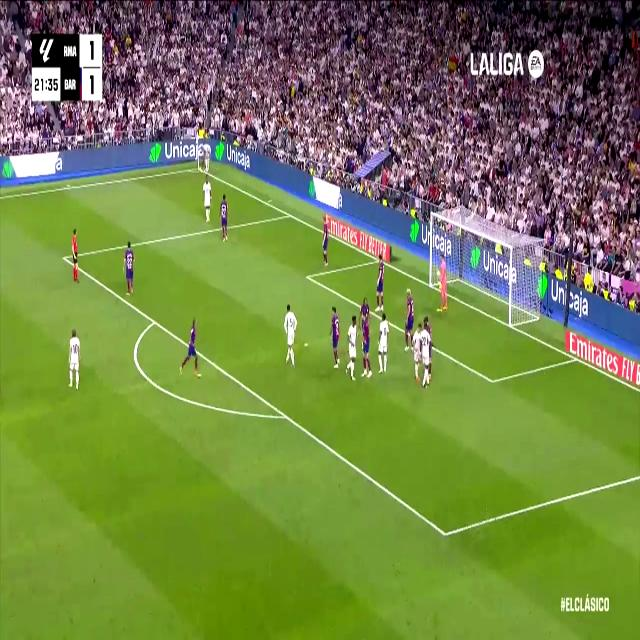bigarea_bottom_inner: (438, 516, 452, 550)
bigarea_top_inner: (61, 249, 68, 266)
bigarea_top_outter: (285, 206, 293, 222)
bottom_arc_area_intersection: (280, 405, 290, 425)
corner: (193, 163, 202, 173)
smallarea_top_inner: (304, 268, 311, 284)
top_arc_area_intersection: (150, 311, 158, 330)
